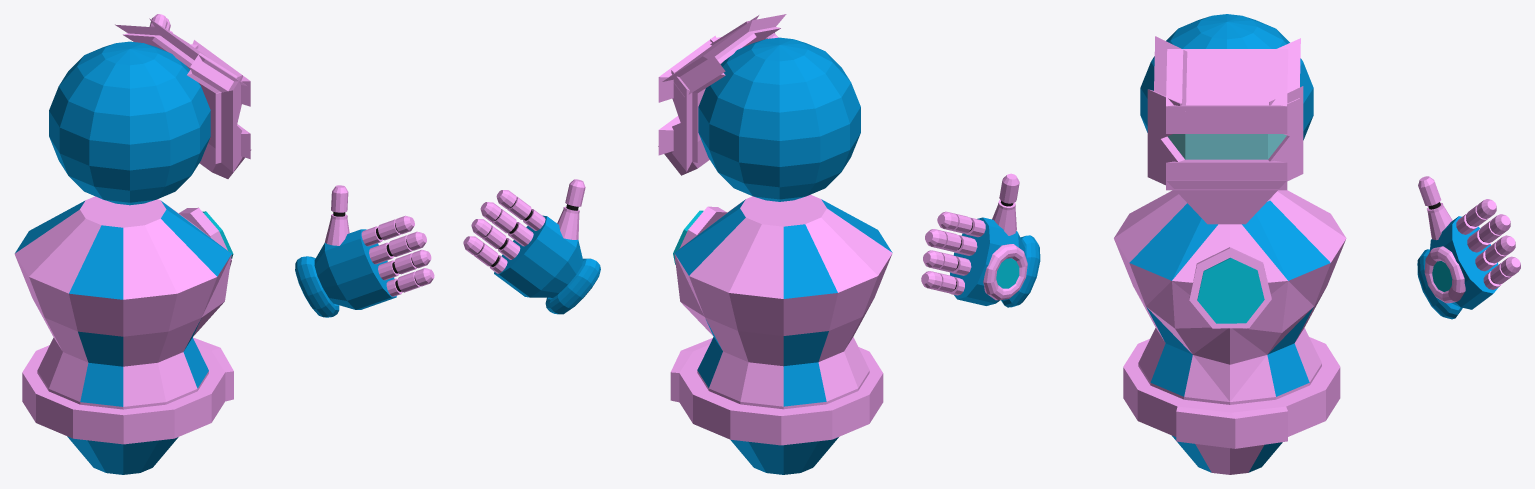
3 renders of one model, left to right at view 1: azimuth 30°, elevation 25°; view 2: azimuth 150°, elevation 25°; view 3: azimuth 270°, elevation 25°, orthographic. The views are drawn at different scales.
Parts seen in each view (by area): view 1: node_MeshObject677931840-PolyGem25, node_MeshObject1196651904-PolyPaper3; view 2: node_MeshObject677931840-PolyGem25, node_MeshObject1196651904-PolyPaper3; view 3: node_MeshObject677931840-PolyGem25, node_MeshObject1196651904-PolyPaper3.
Part boxes in pixels (bbox=[...]): node_MeshObject677931840-PolyGem25: bbox=[14, 14, 434, 444]; node_MeshObject1196651904-PolyPaper3: bbox=[15, 41, 418, 474]; node_MeshObject677931840-PolyGem25: bbox=[463, 14, 892, 445]; node_MeshObject1196651904-PolyPaper3: bbox=[476, 37, 892, 474]; node_MeshObject677931840-PolyGem25: bbox=[921, 36, 1520, 474]; node_MeshObject1196651904-PolyPaper3: bbox=[950, 14, 1498, 472].
Bounding box in the file's own units: 1 × 1.41 × 1.74.
